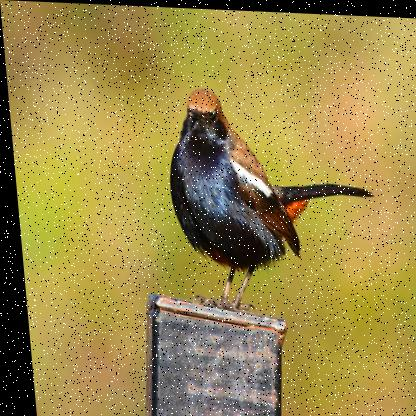Burung: (161, 85, 380, 310)
